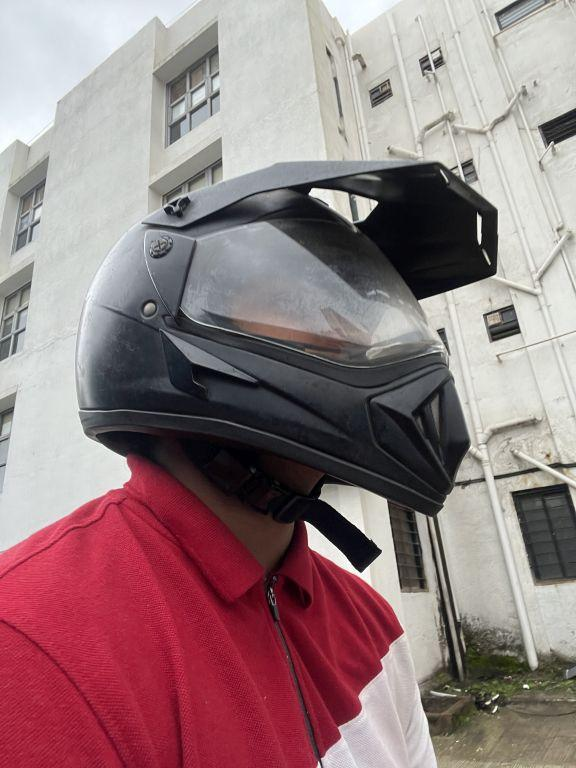helmet: (52, 140, 510, 529)
